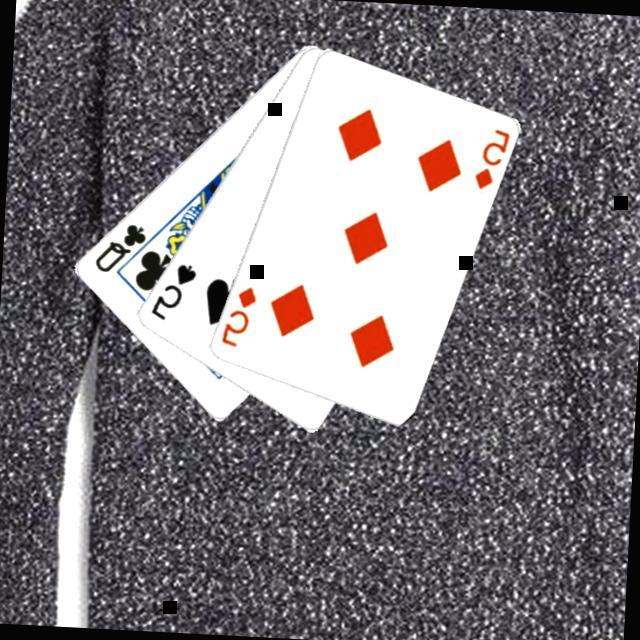5D: (218, 282, 262, 352), (471, 124, 515, 194)
5S: (149, 258, 202, 325)
QC: (92, 218, 152, 278)
